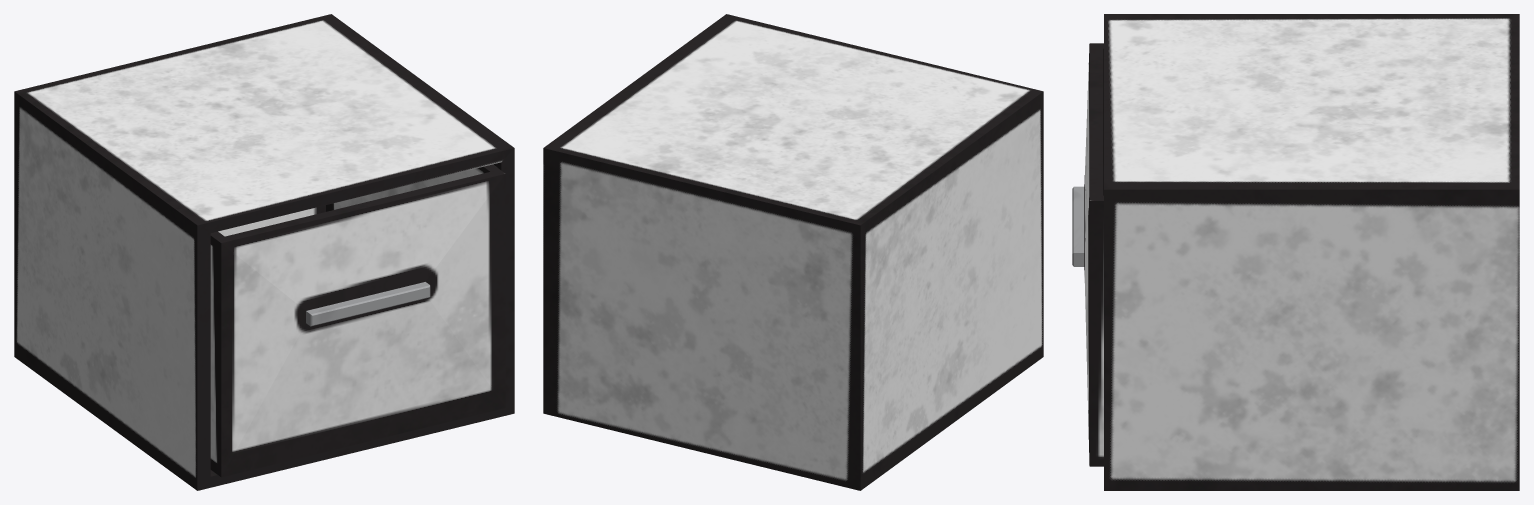
File: Archivador.fbx
3 renders of one model, left to right at view 1: azimuth 30°, elevation 25°; view 2: azimuth 150°, elevation 25°; view 3: azimuth 270°, elevation 25°, orthographic. The views are drawn at different scales.
Visible parts, largest first — view 1: archivador, archivador_cajon; view 2: archivador; view 3: archivador, archivador_cajon.
Part boxes in pixels (bbox=[...]): archivador: bbox=[14, 14, 514, 490]; archivador_cajon: bbox=[210, 164, 505, 477]; archivador: bbox=[543, 14, 1043, 490]; archivador: bbox=[1104, 14, 1519, 490]; archivador_cajon: bbox=[1072, 43, 1103, 466].
Bounding box in the file's own units: 25 × 20 × 26.91.
1 material, 1 textured.
